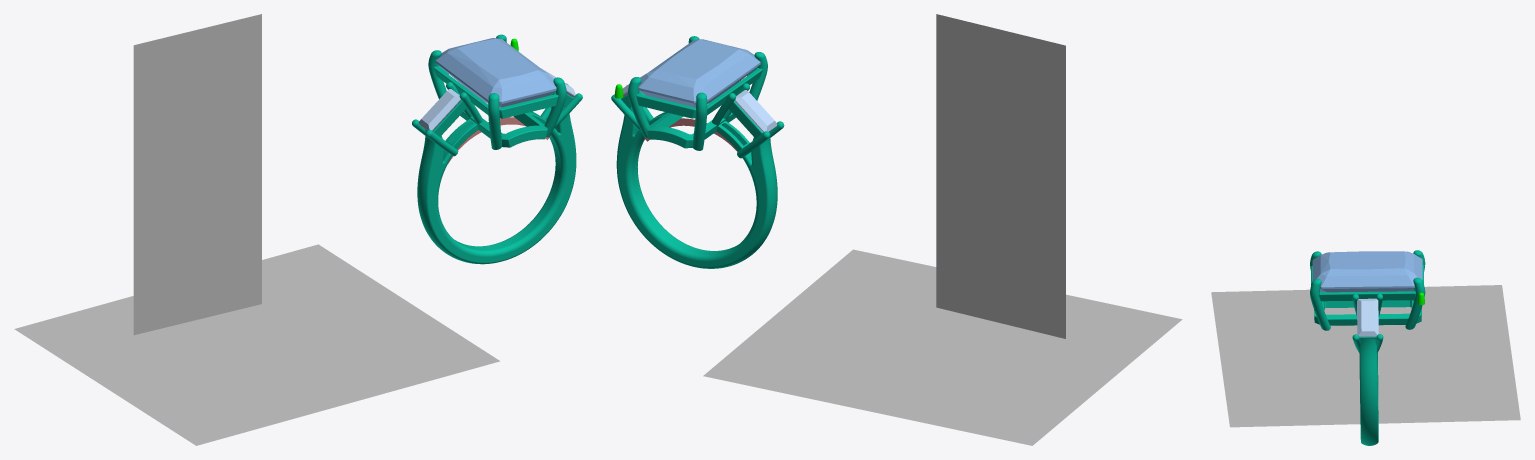
3 views of the same model, side by side, from view 1: azimuth 30°, elevation 25°; view 2: azimuth 150°, elevation 25°; view 3: azimuth 270°, elevation 25° (orthographic). The views are drawn at different scales.
Parts seen in each view (by area): view 1: VR826 22.7.25(front).3dm, Diamond_Radiant, Bezel, Head Prong (×2), Diamond_Baguette Straight; view 2: VR826 22.7.25(front).3dm, Diamond_Radiant, Bezel, Head Prong (×2), Diamond_Baguette Straight; view 3: VR826 22.7.25(front).3dm, Diamond_Radiant, Head Prong (×2), Bezel, Diamond_Baguette Straight.
Boxes of the visible parts, bbox=[...] form: VR826 22.7.25(front).3dm: bbox=[14, 14, 576, 445]; Diamond_Radiant: bbox=[435, 38, 556, 107]; Bezel: bbox=[433, 66, 558, 118]; Head Prong (×2): bbox=[488, 77, 566, 149]; Diamond_Baguette Straight: bbox=[418, 89, 460, 130]; VR826 22.7.25(front).3dm: bbox=[614, 14, 1182, 445]; Diamond_Radiant: bbox=[638, 39, 760, 107]; Bezel: bbox=[636, 67, 762, 118]; Head Prong (×2): bbox=[628, 77, 707, 150]; Diamond_Baguette Straight: bbox=[734, 90, 777, 132]; VR826 22.7.25(front).3dm: bbox=[1211, 285, 1520, 445]; Diamond_Radiant: bbox=[1312, 251, 1422, 292]; Head Prong (×2): bbox=[1310, 277, 1425, 330]; Bezel: bbox=[1311, 265, 1423, 301]; Diamond_Baguette Straight: bbox=[1357, 298, 1378, 336].
Size of the model in its own units: 7.08 by 4.59 by 4.45.
